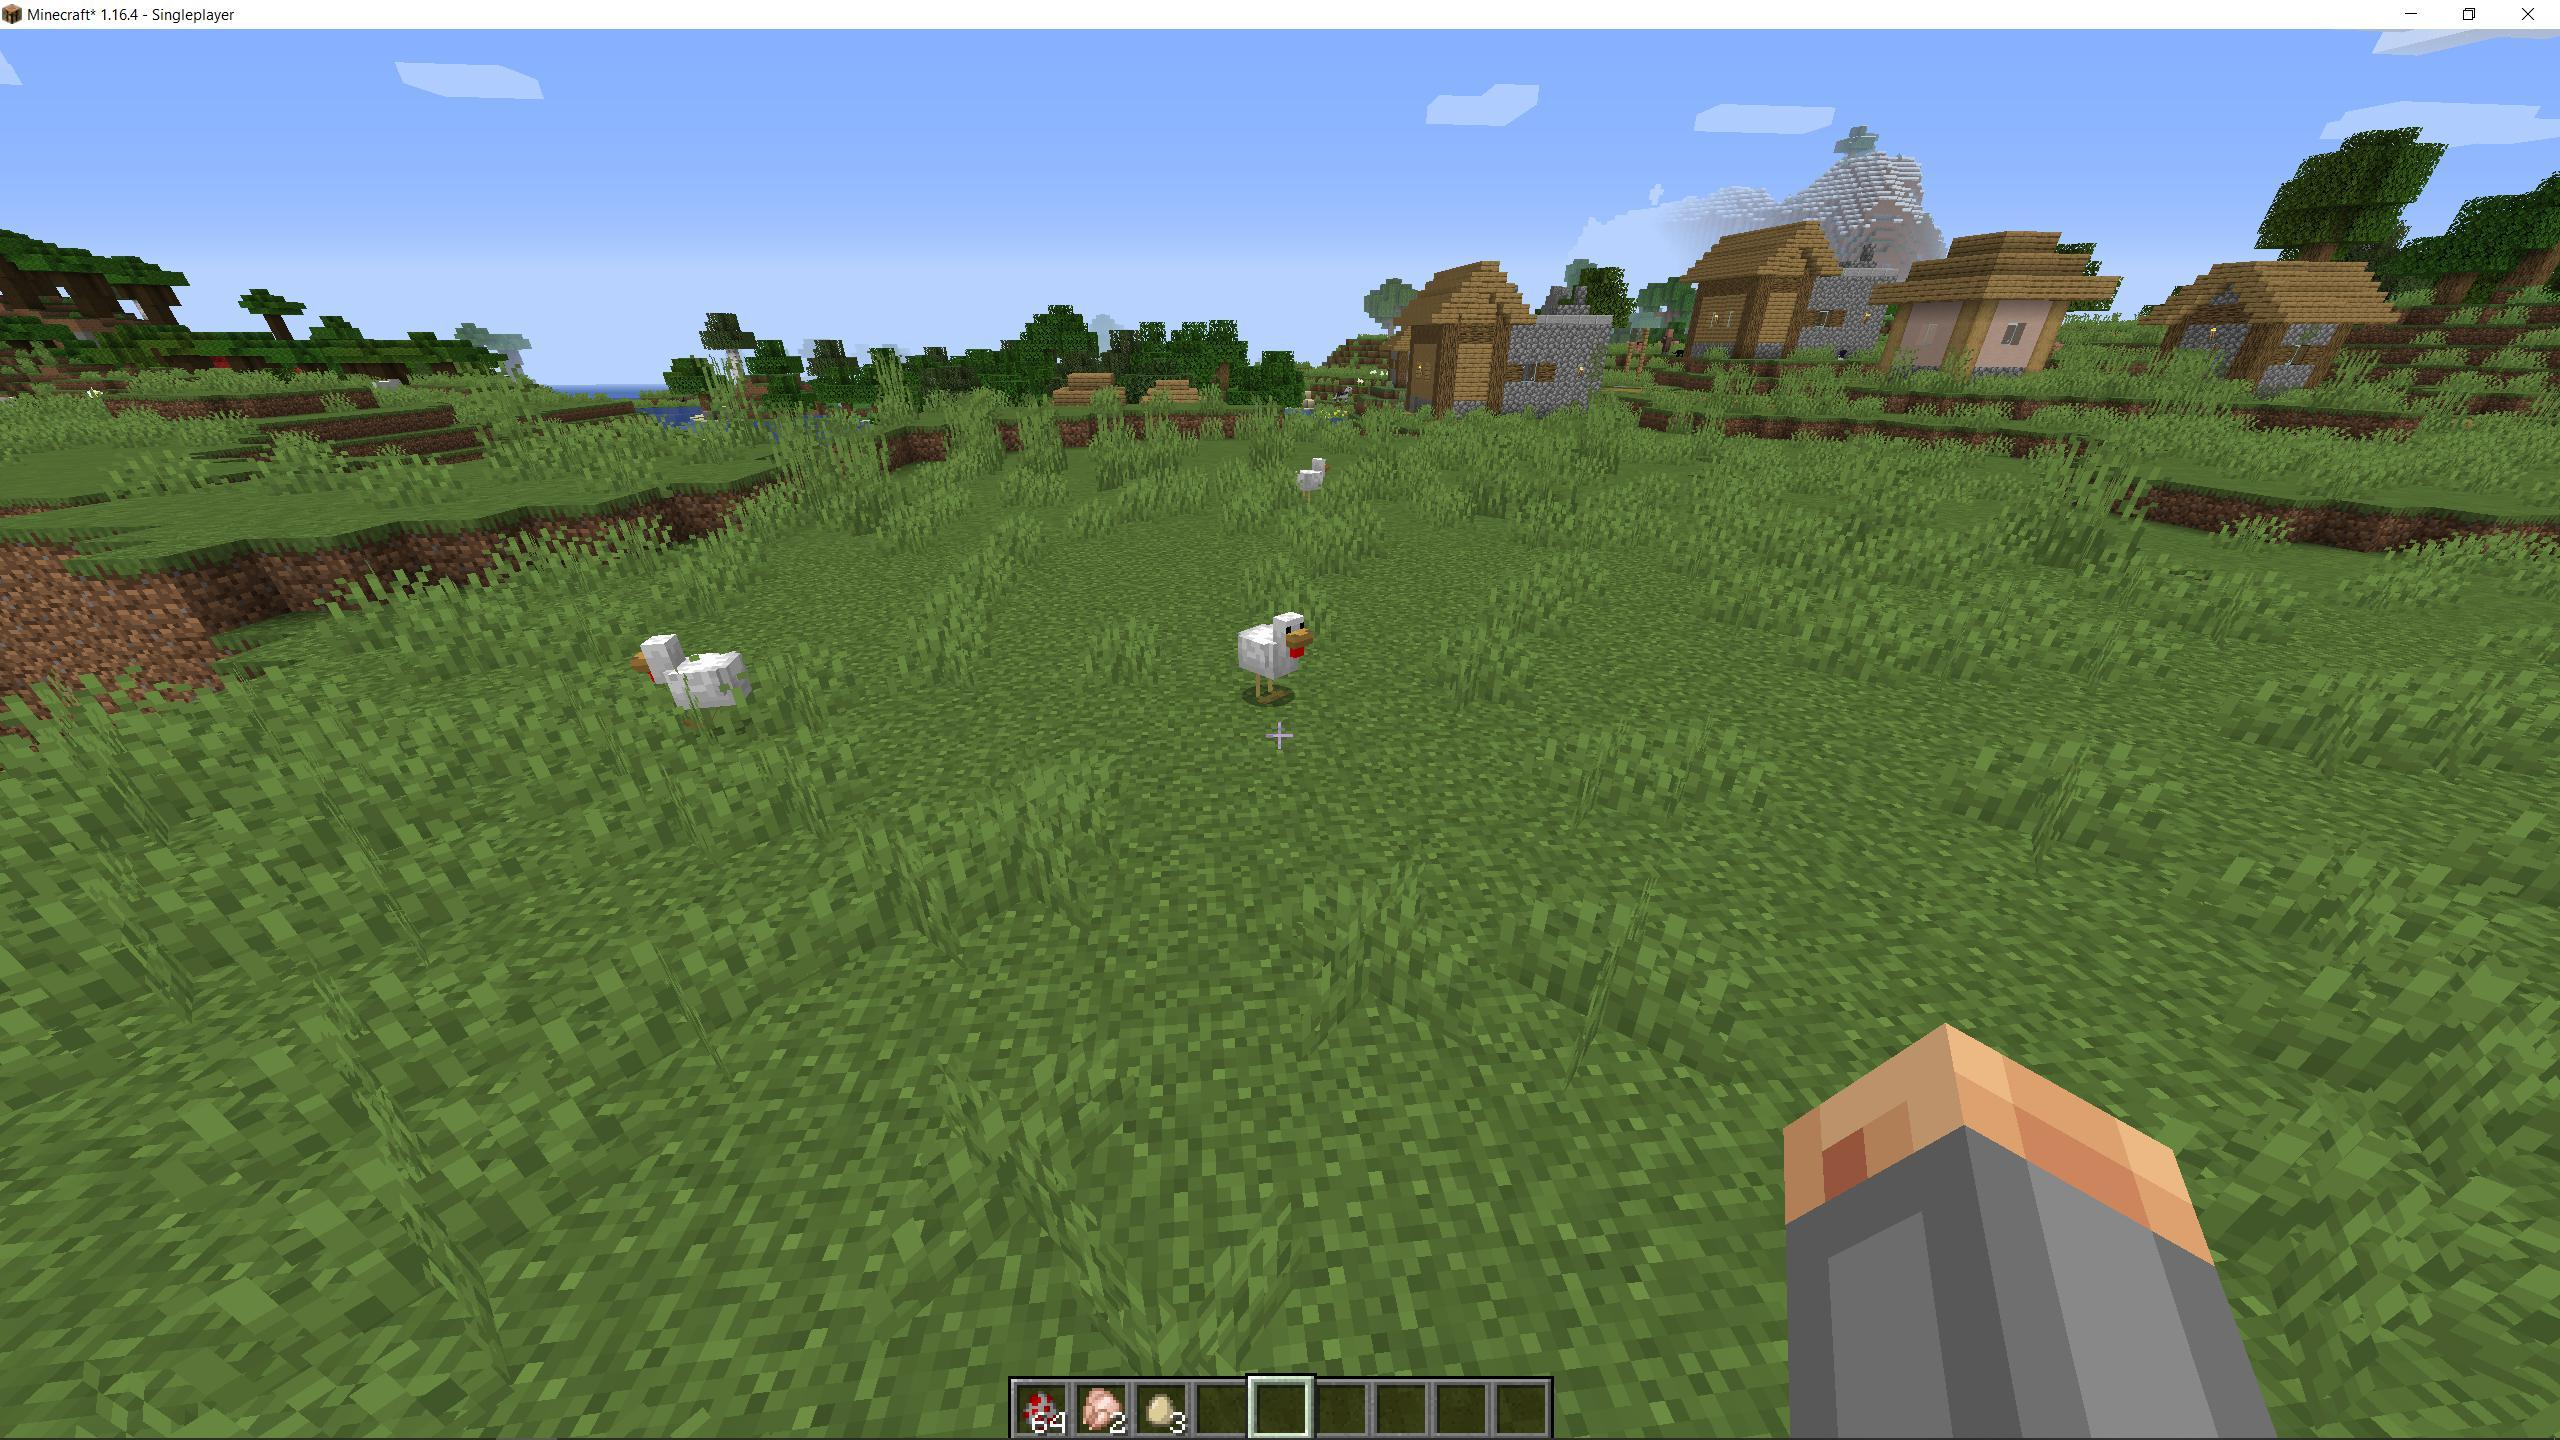chicken: (621, 631, 765, 724), (1231, 603, 1315, 712), (1275, 441, 1336, 520)
